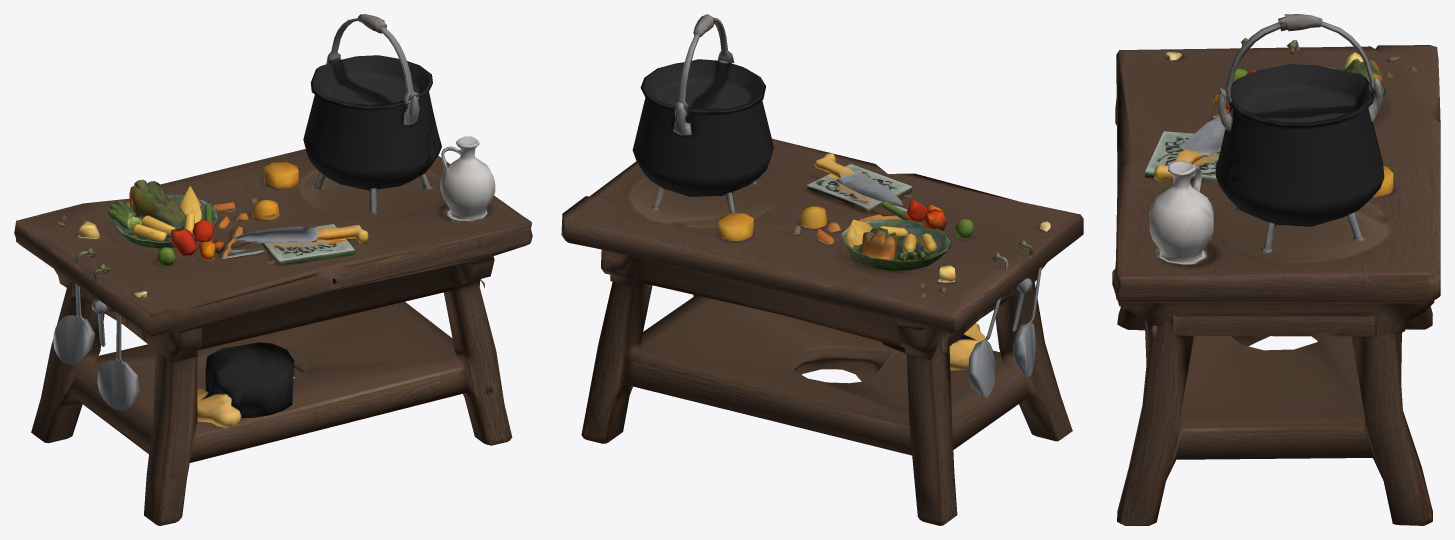
Rendered from tavolo_cucina.fbx.
The picture shows the model from 3 angles, left to right: view 1: azimuth 30°, elevation 25°; view 2: azimuth 150°, elevation 25°; view 3: azimuth 270°, elevation 25°; orthographic projection. The views are drawn at different scales.
Visible parts, largest first — view 1: tripo_node_4d710aae; view 2: tripo_node_4d710aae; view 3: tripo_node_4d710aae.
Boxes of the visible parts, bbox=[...] form: tripo_node_4d710aae: bbox=[14, 14, 532, 525]; tripo_node_4d710aae: bbox=[561, 14, 1083, 525]; tripo_node_4d710aae: bbox=[1112, 14, 1440, 525].
Bounding box in the file's own units: 0.9995 × 0.9487 × 0.5962.
Materials: 1 (1 with a texture image).
